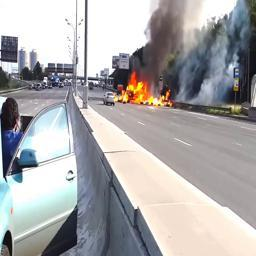fire: (115, 71, 173, 107)
